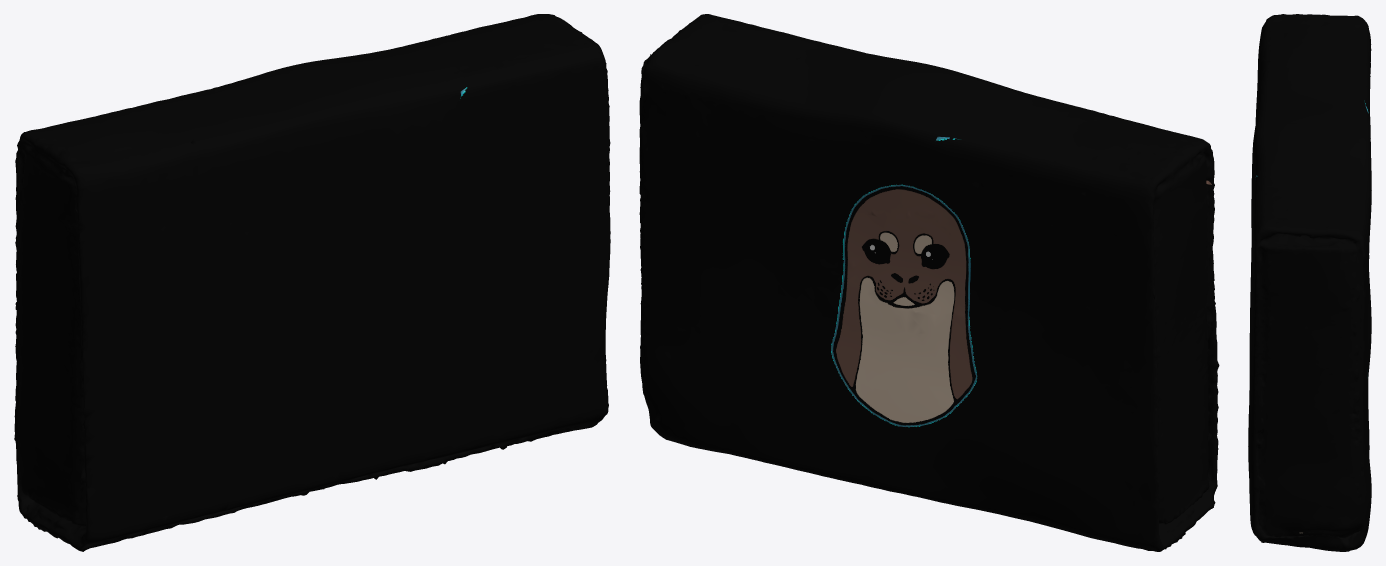
The model's file is box_of_matches.gltf.
3 renders of one model, left to right at view 1: azimuth 30°, elevation 25°; view 2: azimuth 150°, elevation 25°; view 3: azimuth 270°, elevation 25°, orthographic. The views are drawn at different scales.
Parts seen in each view (by area): view 1: korobochka; view 2: korobochka; view 3: korobochka.
Boxes of the visible parts, x1,y1,x2,y2 form: korobochka: [14, 14, 610, 551]; korobochka: [639, 14, 1219, 551]; korobochka: [1248, 14, 1371, 551].
Size of the model in its own units: 0.2911 by 0.2031 by 0.0682.
1 material, 1 textured.
